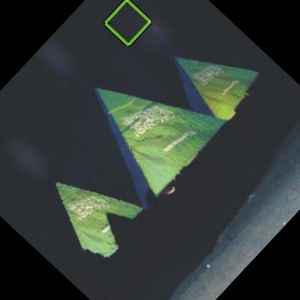square: (103, 1, 154, 48)
